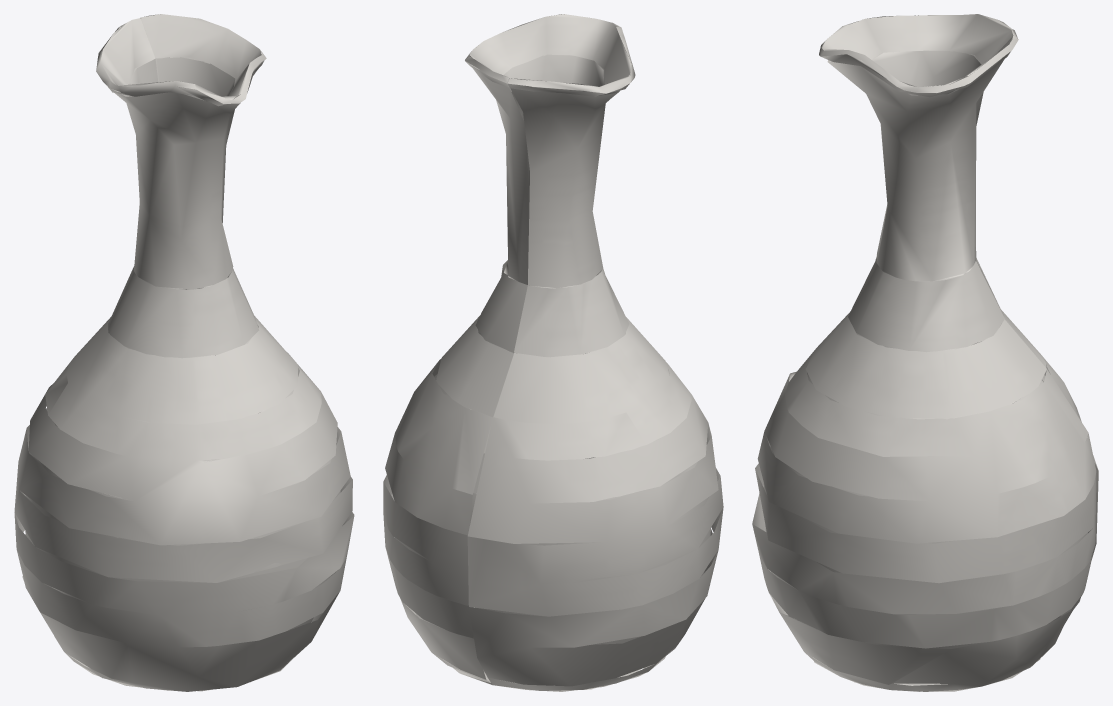
File: ceramic_vase_01.gltf
The picture shows the model from 3 angles, left to right: view 1: azimuth 30°, elevation 25°; view 2: azimuth 150°, elevation 25°; view 3: azimuth 270°, elevation 25°; orthographic projection. The views are drawn at different scales.
Parts seen in each view (by area): view 1: ceramic_vase_01; view 2: ceramic_vase_01; view 3: ceramic_vase_01.
Part boxes in pixels (x1,y1,x2,y2): ceramic_vase_01: (14, 14, 354, 691); ceramic_vase_01: (383, 14, 723, 691); ceramic_vase_01: (752, 14, 1098, 691).
Bounding box in the file's own units: 0.2063 × 0.4017 × 0.2058.
1 material, 1 textured.
